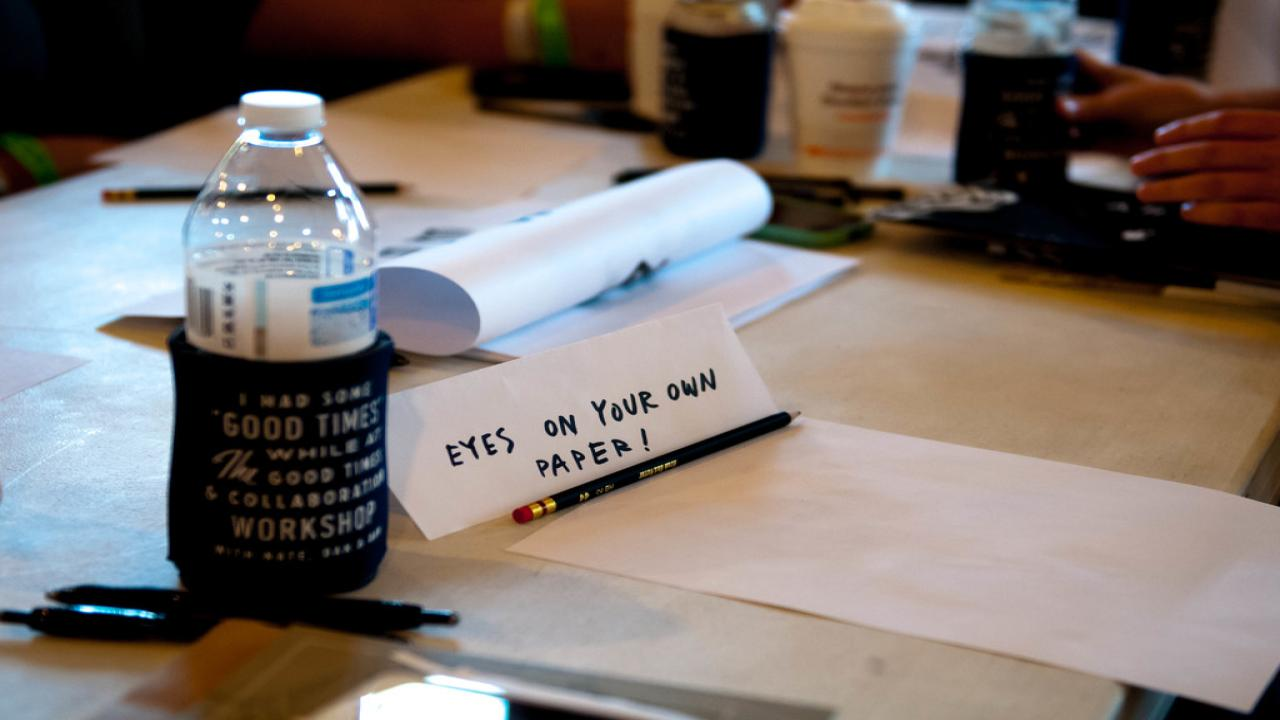bottle_cap: (239, 90, 326, 125)
